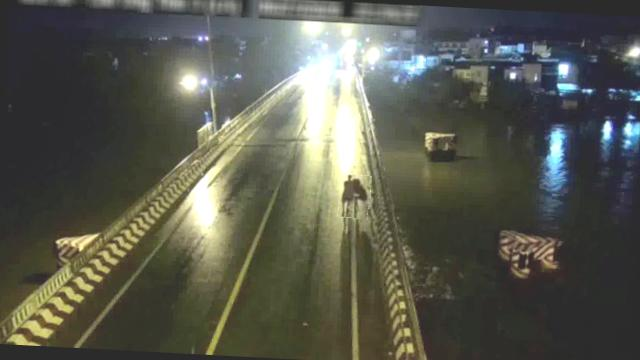Bike: (338, 172, 370, 219)
